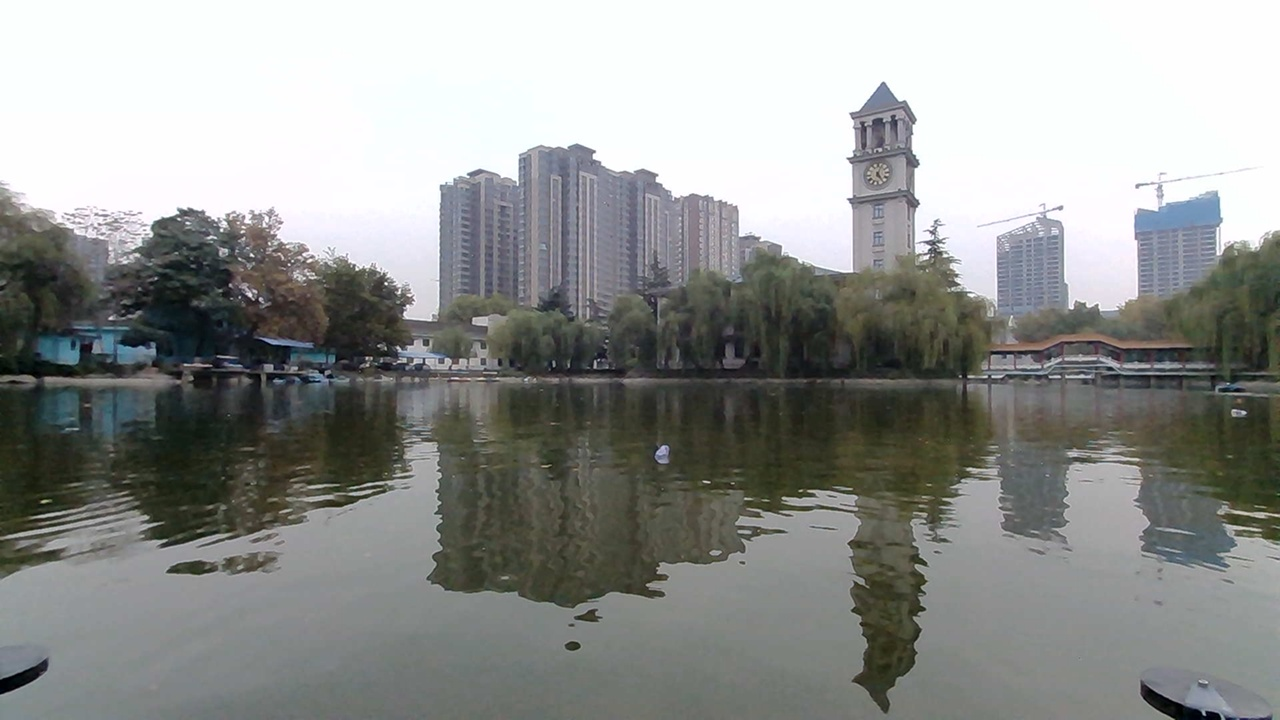bottle: (637, 437, 686, 469), (1218, 396, 1248, 424)
